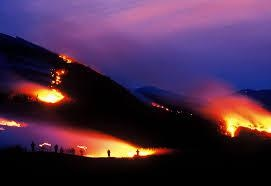fire: (218, 110, 270, 139), (32, 65, 67, 103), (0, 116, 23, 127)
